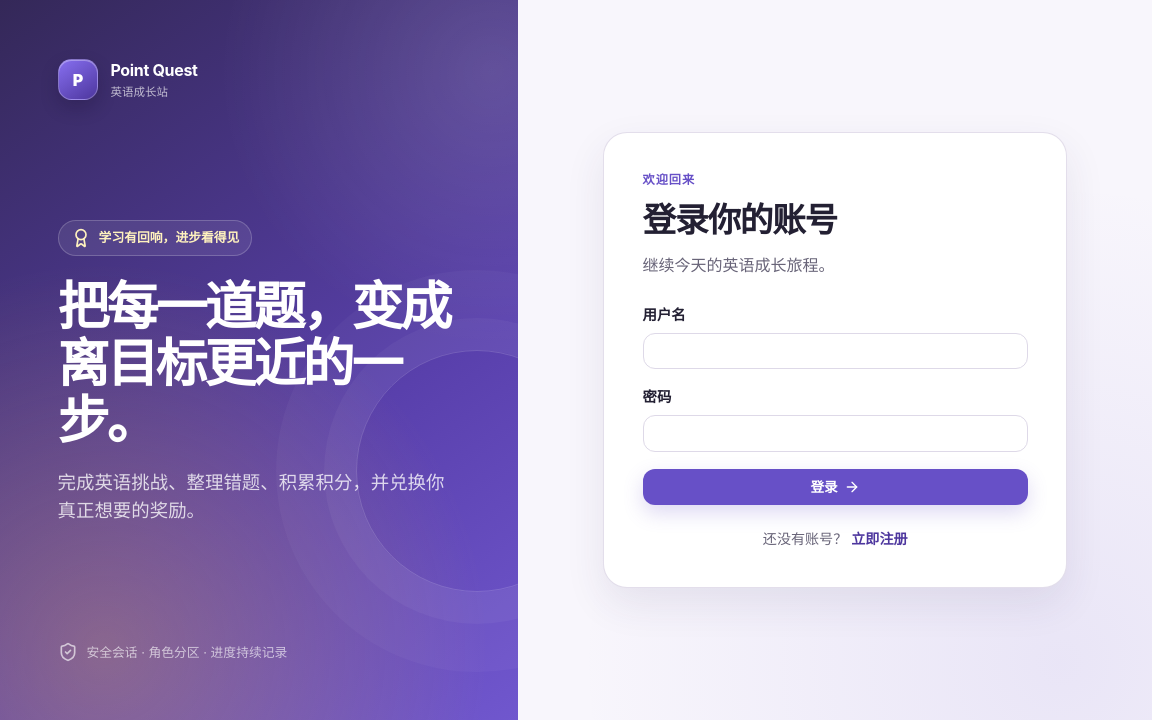
Scenario: 认证表单 › 服务端 5xx 失败保留登录凭据并允许原地重试
Type "learner_01" into the field labelled "用户名". click: (835, 351)
box: 643,333 -> 1028,369
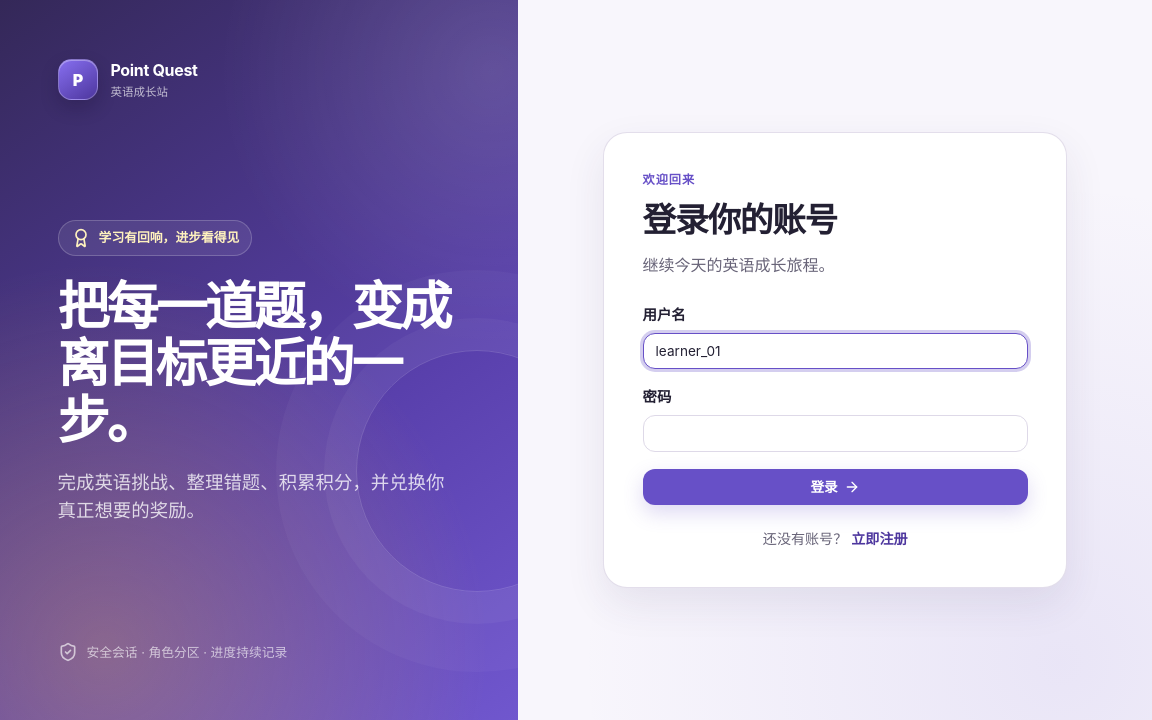
Type "password123" into the password field labelled "密码". click: (835, 433)
box: 643,415 -> 1028,452
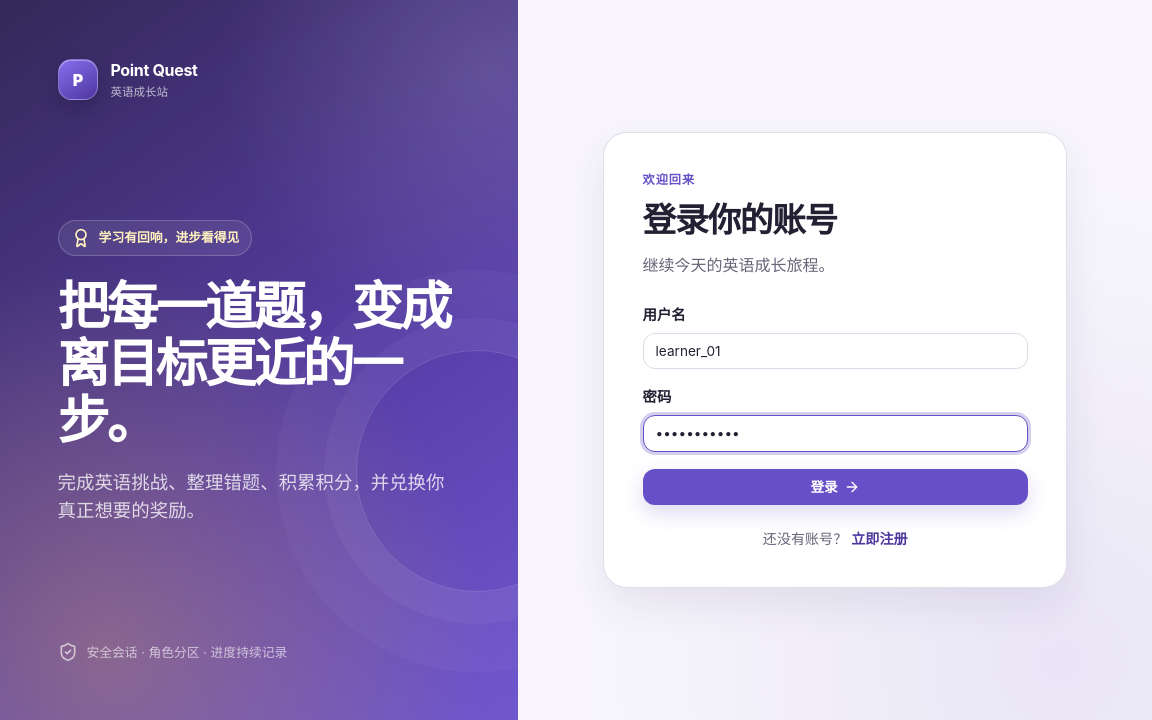
Click the button "登录". click: click(835, 487)
box: 643,468 -> 1028,505
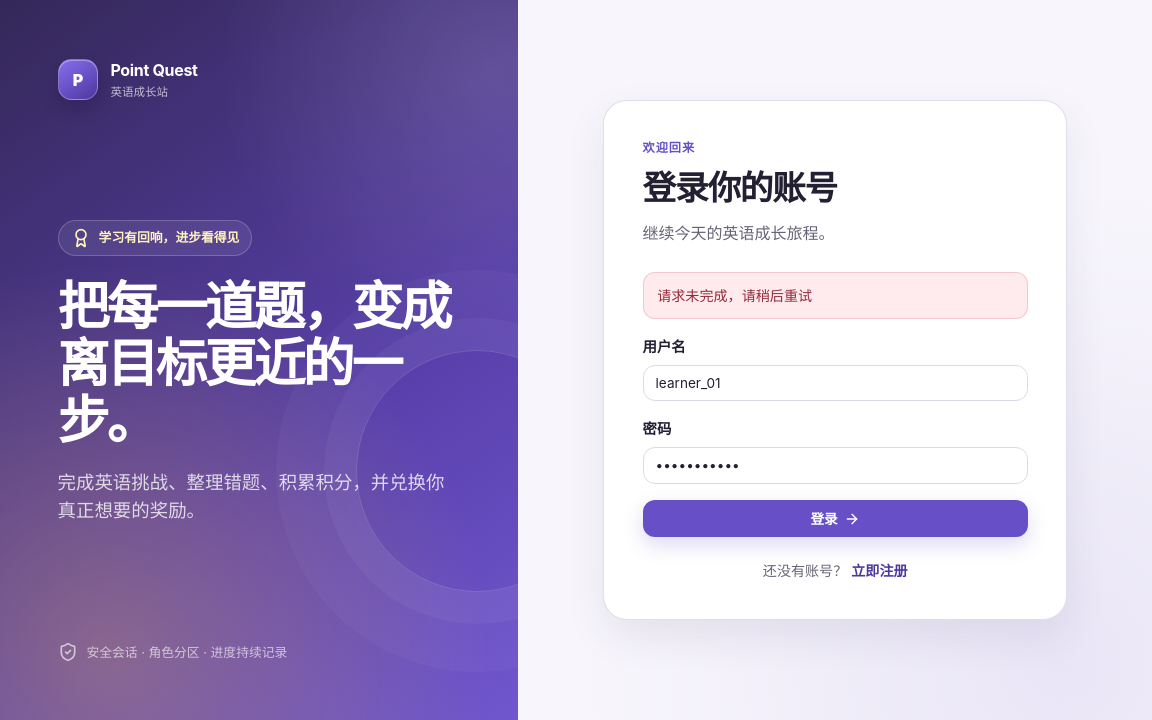
Expected: the button "登录" is enabled, 643,500 -> 1028,537
Expected: the message "请求未完成，请稍后重试" is shown, 643,272 -> 1028,319
